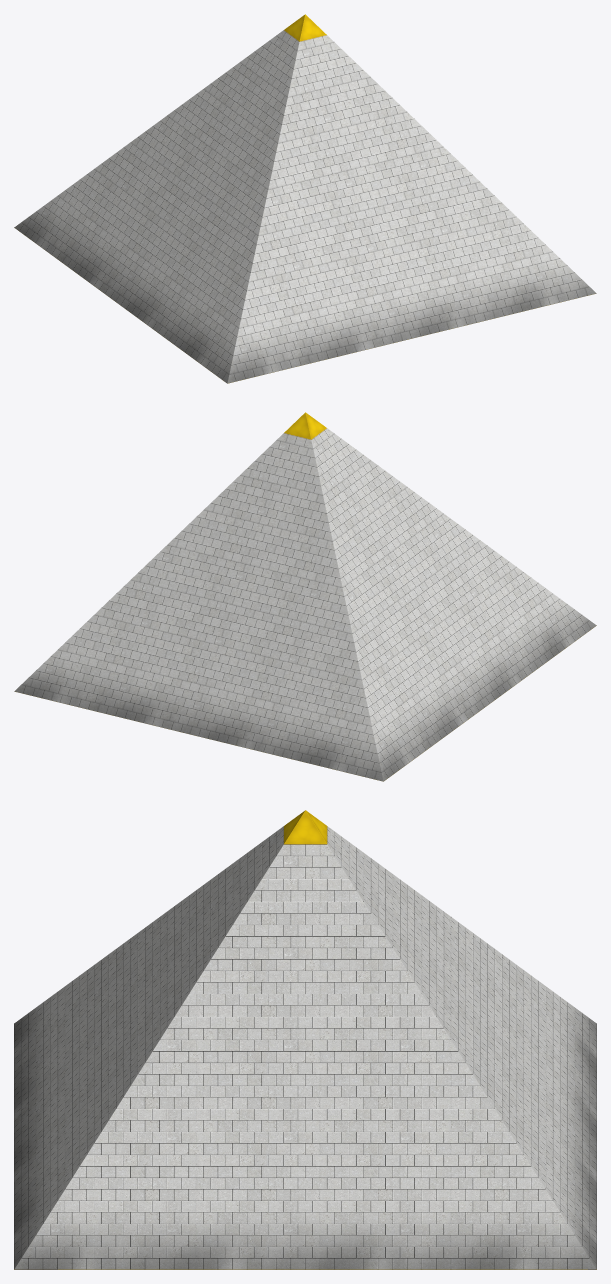
The model's file is Giza_Pyramid_Low-poly.glb.
3 renders of one model, top to bottom at view 1: azimuth 30°, elevation 25°; view 2: azimuth 150°, elevation 25°; view 3: azimuth 270°, elevation 25°, orthographic. The views are drawn at different scales.
Parts seen in each view (by area): view 1: Giza_Pyramid_M_Pyramid_0; view 2: Giza_Pyramid_M_Pyramid_0; view 3: Giza_Pyramid_M_Pyramid_0.
Part boxes in pixels (box(x1,y1,x2,y2)): Giza_Pyramid_M_Pyramid_0: box(14, 14, 596, 383); Giza_Pyramid_M_Pyramid_0: box(14, 412, 596, 781); Giza_Pyramid_M_Pyramid_0: box(14, 810, 596, 1269).
Bounding box in the file's own units: 230 × 147 × 230.
1 material, 1 textured.
